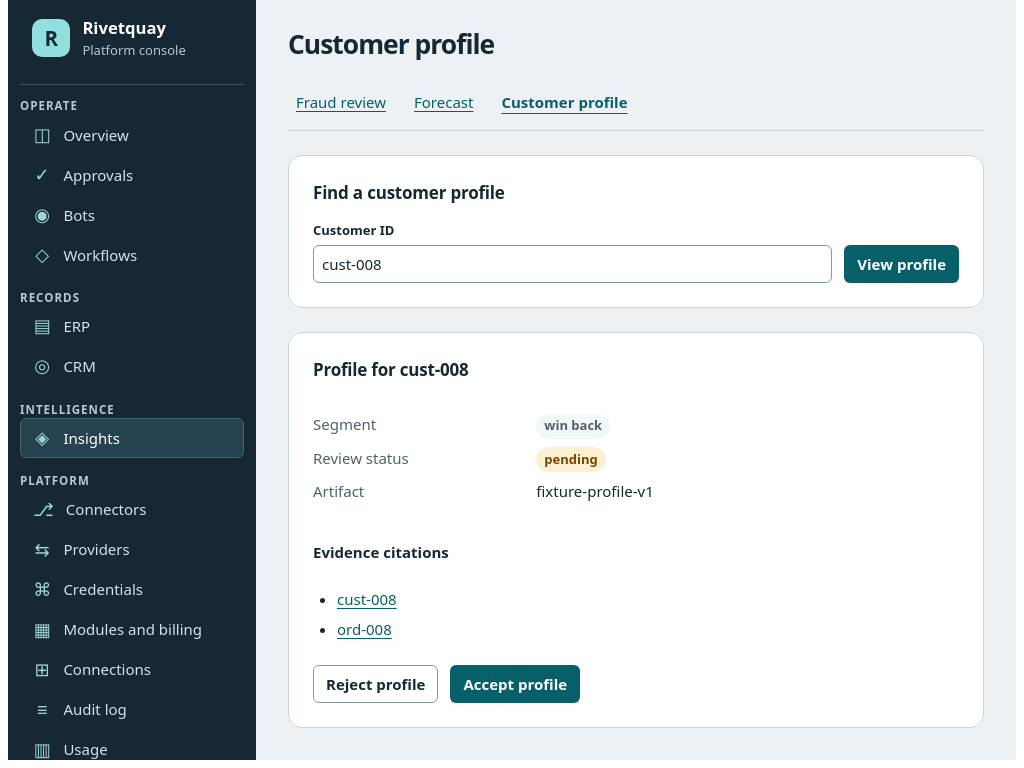
shows profile citations and records an approver decision
(page scrolled)
Expected: the heading "Evidence citations" is shown, left=313, top=542, right=449, bottom=562
Expected: the link "cust-008" is shown, left=337, top=589, right=397, bottom=609
Click the button "Accept profile" at point(515, 684), box left=450, top=665, right=580, bottom=703
(page scrolled)
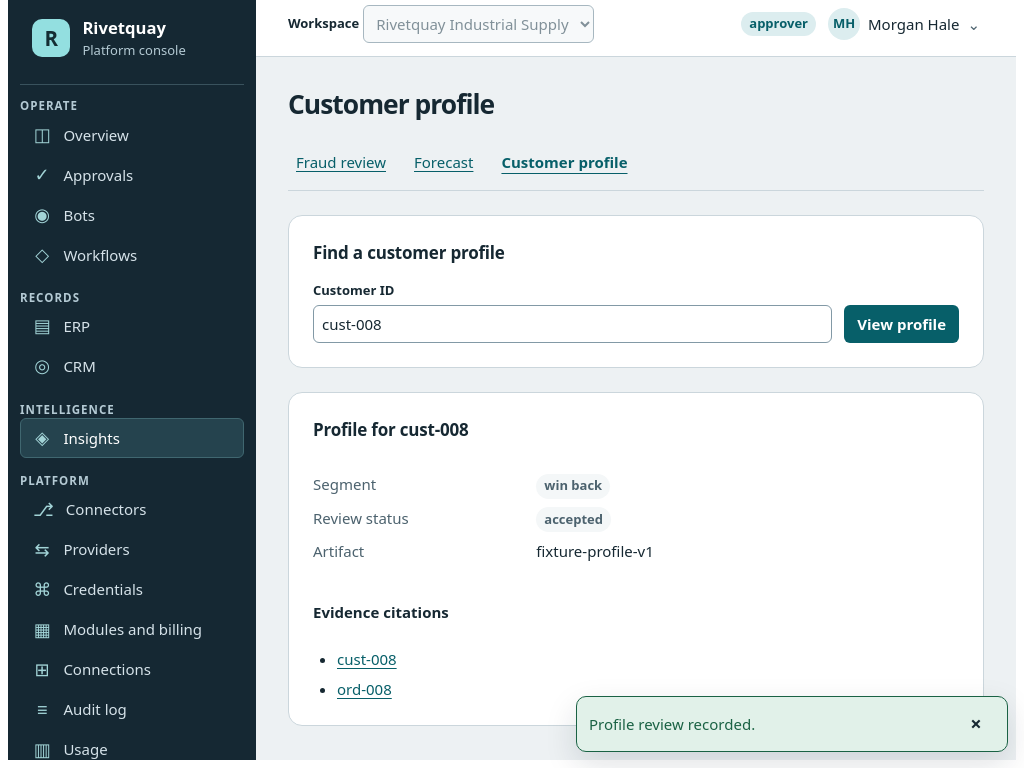
Expected: the text "Profile review recorded." is shown, left=589, top=713, right=755, bottom=735
